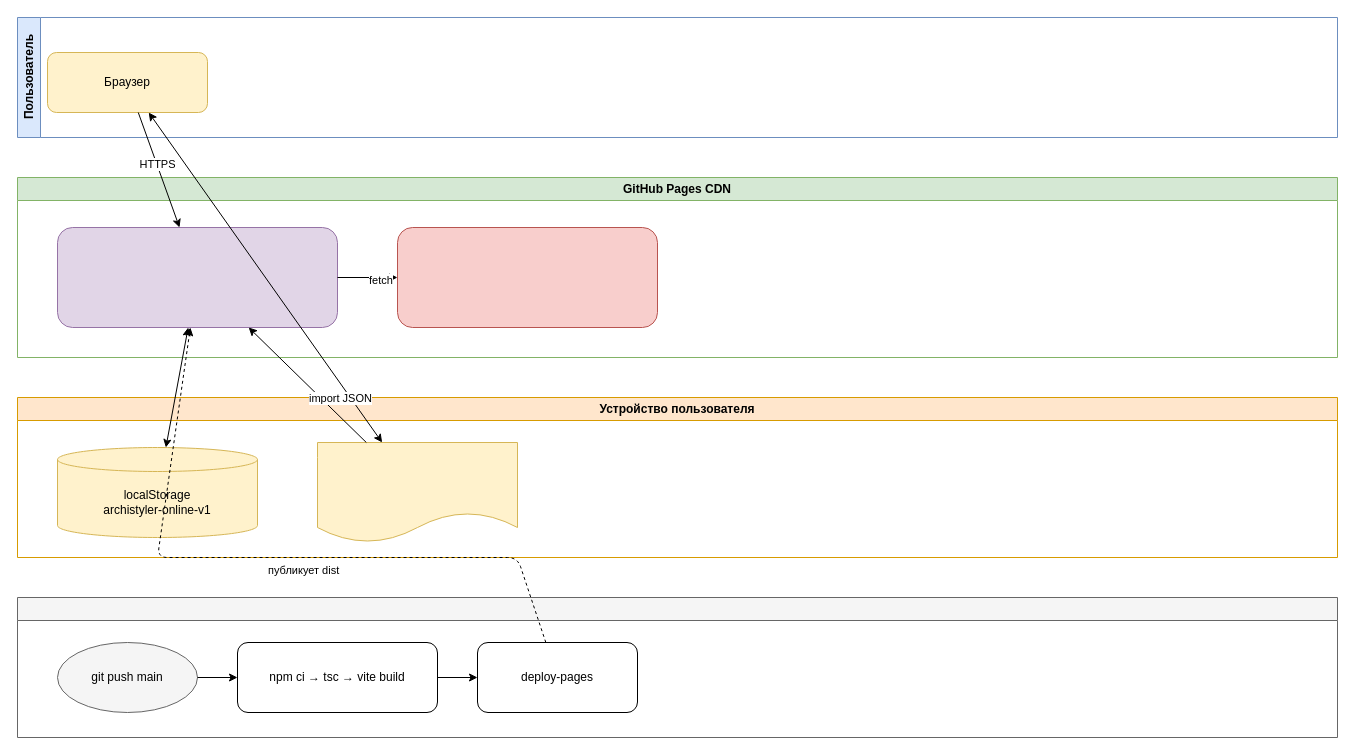
Some shapes in this 1355 by 755 pixel diagram are drawn without their labels. Each missing label, with the box of its shape:
.archistyler.json импорт / экспорт: (316, 442, 518, 542)
ArchiStyler Online SPA React 19 + Vite bundle: (56, 226, 338, 328)
GitHub Actions: (16, 596, 1338, 738)
public/templates/*.json patterns · patterns-gof: (396, 226, 658, 328)
